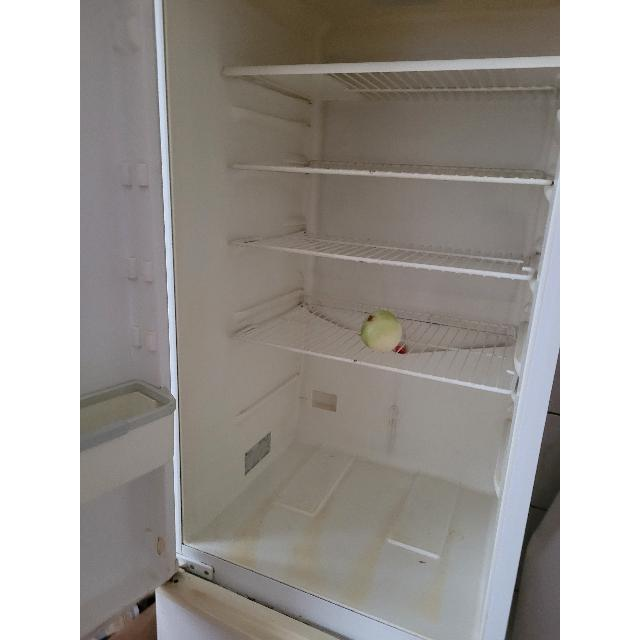onion: (360, 308, 402, 352)
